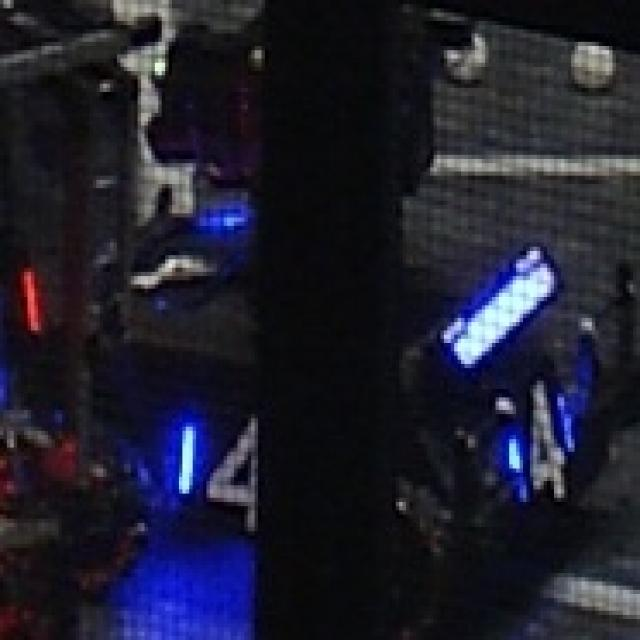B4: (165, 402, 262, 527), (502, 372, 578, 506)
